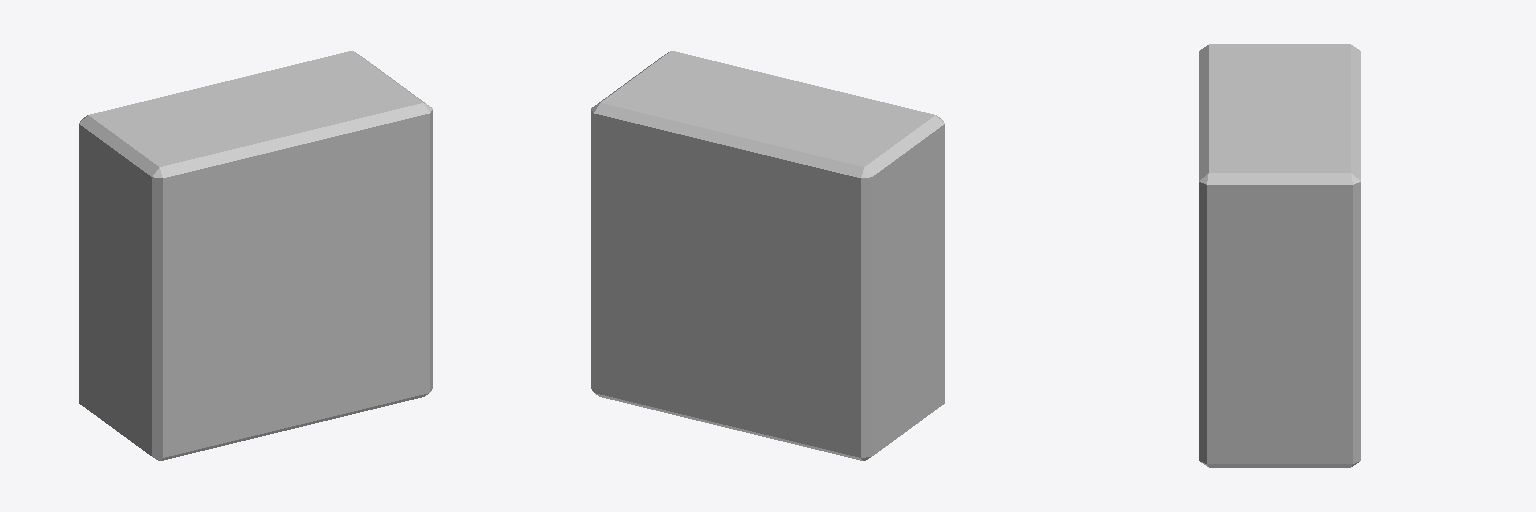
Rendered from Torso.obj.
The picture shows the model from 3 angles: view 1: azimuth 30°, elevation 25°; view 2: azimuth 150°, elevation 25°; view 3: azimuth 270°, elevation 25°; orthographic projection.
Parts seen in each view (by area): view 1: Torso.001_Torso; view 2: Torso.001_Torso; view 3: Torso.001_Torso.
Boxes of the visible parts, <box> form: Torso.001_Torso: <box>79,51,432,460</box>; Torso.001_Torso: <box>591,51,944,460</box>; Torso.001_Torso: <box>1199,44,1360,467</box>.
Bounding box in the file's own units: 0.9943 × 0.9943 × 0.4972.